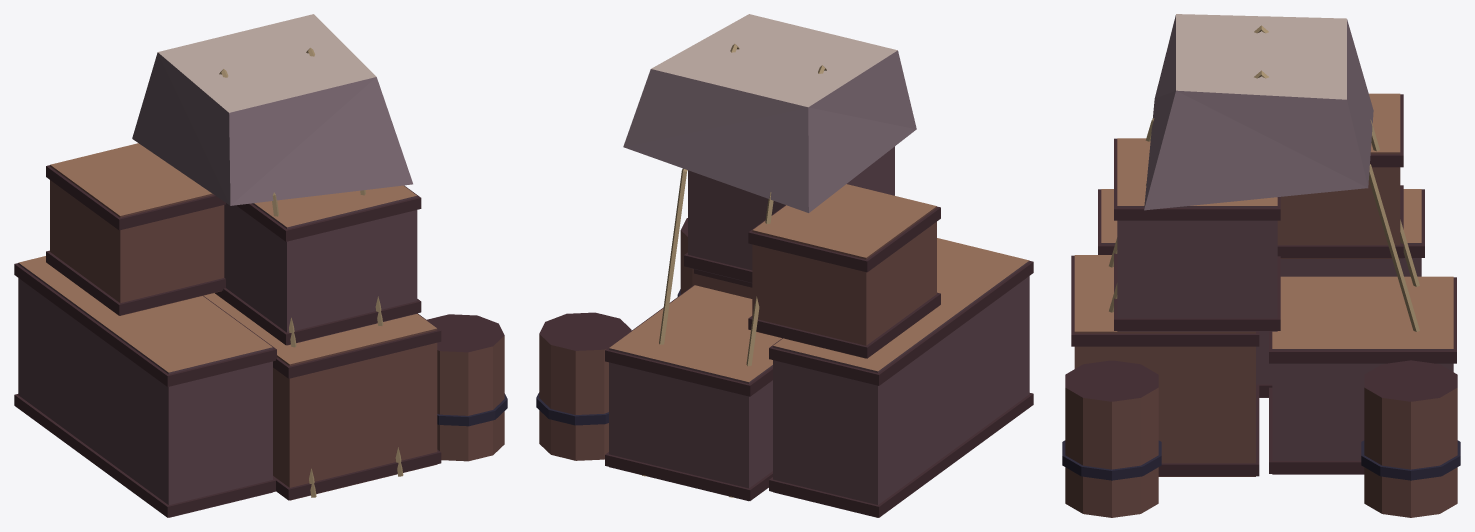
Rendered from Fair_CargoPile.fbx.
The picture shows the model from 3 angles, left to right: view 1: azimuth 30°, elevation 25°; view 2: azimuth 150°, elevation 25°; view 3: azimuth 270°, elevation 25°; orthographic projection. The views are drawn at different scales.
Parts seen in each view (by area): view 1: Fair_CargoPile; view 2: Fair_CargoPile; view 3: Fair_CargoPile.
Boxes of the visible parts, x1,y1,x2,y2 form: Fair_CargoPile: (14, 14, 507, 517); Fair_CargoPile: (536, 14, 1033, 517); Fair_CargoPile: (1062, 14, 1460, 517).
Size of what is drawn, in the model's own units: 3.92 by 4 by 3.73.
1 material, 1 textured.
